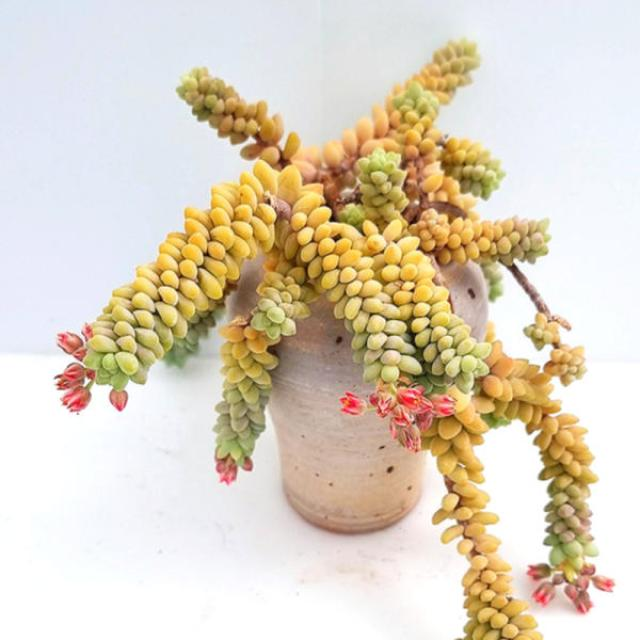Sedum: (56, 160, 277, 411), (484, 338, 612, 610), (431, 396, 552, 640), (285, 191, 421, 382), (356, 40, 480, 149), (176, 68, 300, 168), (214, 318, 279, 483), (251, 221, 309, 339), (418, 218, 551, 261)
